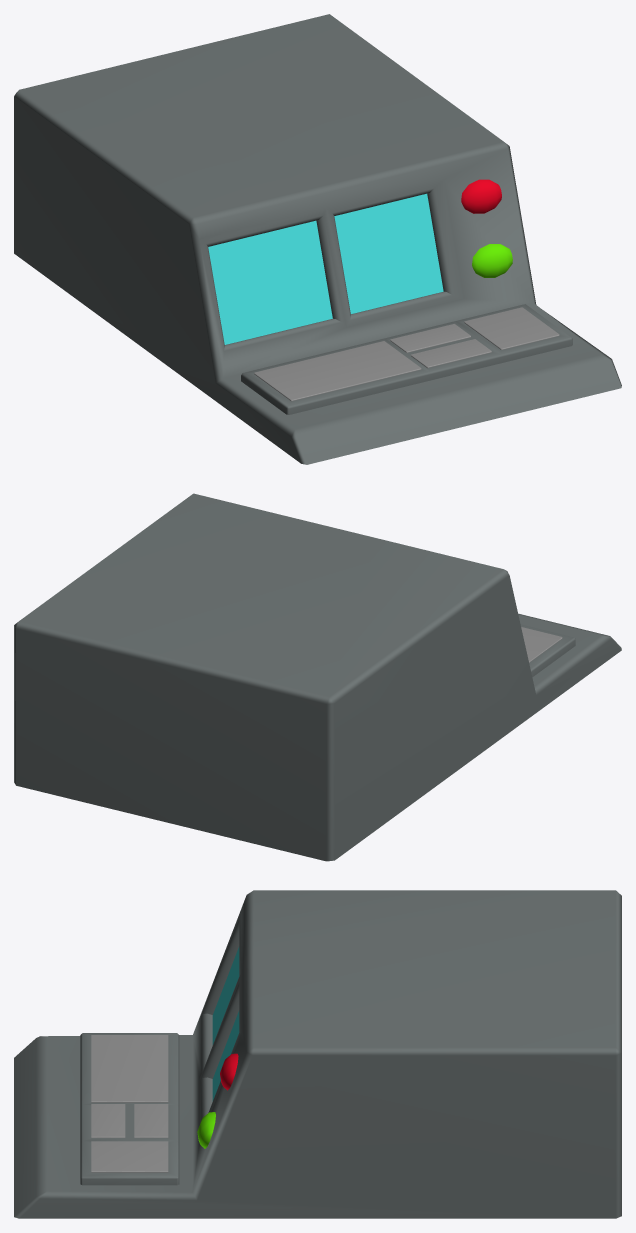
File: Small_machine.fbx
3 renders of one model, top to bottom at view 1: azimuth 30°, elevation 25°; view 2: azimuth 150°, elevation 25°; view 3: azimuth 270°, elevation 25°, orthographic. The views are drawn at different scales.
Parts seen in each view (by area): view 1: Small_machine; view 2: Small_machine; view 3: Small_machine.
Part boxes in pixels (left/top/right/bottom): Small_machine: left=14, top=14, right=621, bottom=464; Small_machine: left=14, top=493, right=621, bottom=861; Small_machine: left=14, top=890, right=621, bottom=1218.
Size of the model in its own units: 0.8959 by 0.4337 by 1.42.
